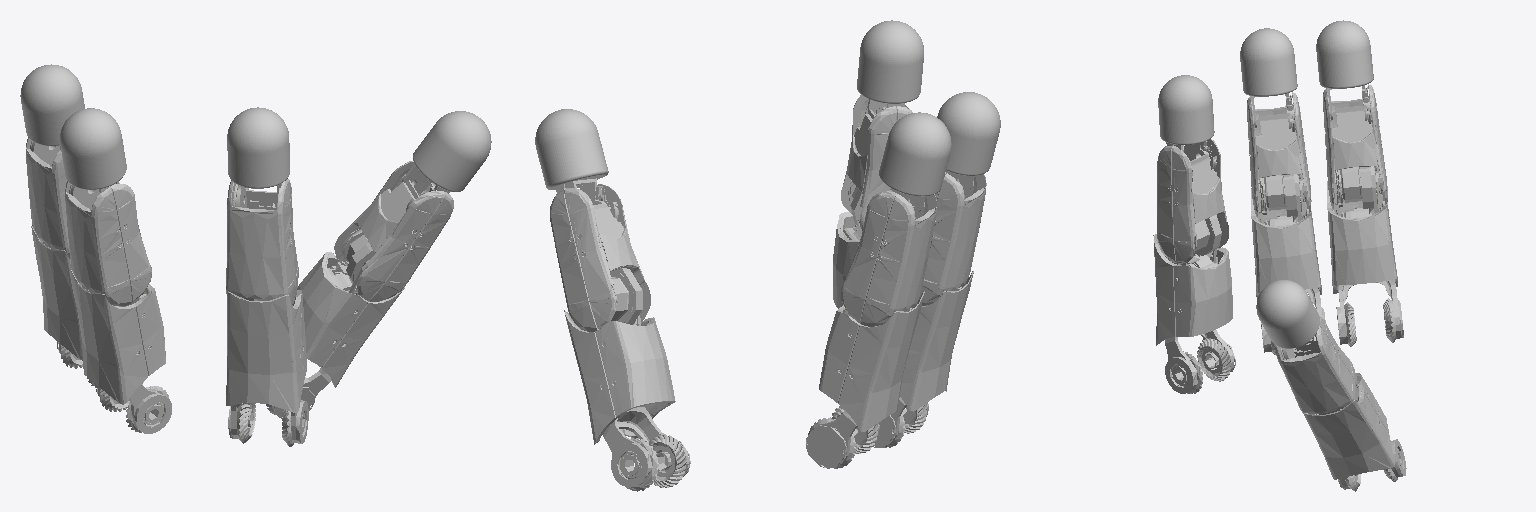
URDF robot description (hand):
<?xml version='1.0' encoding='UTF-8'?>
<robot name="hand">
  <link name="hand_base">
    <inertial>
      <origin xyz="0.0 0.0 0.0" rpy="0.0 -0.0 0.0"/>
      <mass value="1.0"/>
      <inertia ixx="0.0" ixy="0.0" ixz="0.0" iyy="0.0" iyz="0.0" izz="0.0"/>
    </inertial>
  </link>
  <link name="f1_base_link">
    <inertial>
      <origin xyz="0.0 0.0 0.0" rpy="0.0 -0.0 0.0"/>
      <mass value="0.1"/>
      <inertia ixx="0.0" ixy="0.0" ixz="0.0" iyy="0.0" iyz="0.0" izz="0.0"/>
    </inertial>
  </link>
  <link name="f1_proximal_link">
    <inertial>
      <origin xyz="0.0 0.0 0.0" rpy="0.0 -0.0 0.0"/>
      <mass value="0.0"/>
      <inertia ixx="0.0" ixy="0.0" ixz="0.0" iyy="0.0" iyz="0.0" izz="0.0"/>
    </inertial>
  </link>
  <link name="f1_knuckle_link">
    <inertial>
      <origin xyz="0.0 0.0 0.0" rpy="0.0 -0.0 0.0"/>
      <mass value="0.1"/>
      <inertia ixx="0.0" ixy="0.0" ixz="0.0" iyy="0.0" iyz="0.0" izz="0.0"/>
    </inertial>
    <visual>
      <geometry>
        <mesh filename="hand_model/object_files/finger_prox.obj"/>
      </geometry>
      <material name="hand_grey"/>
      <origin xyz="0.0 0.0 0.0" rpy="-1.5707963267948966 0.0 0.0"/>
    </visual>
    <collision>
      <geometry>
        <mesh filename="hand_model/object_files/finger_prox.obj"/>
      </geometry>
      <origin xyz="0.0 0.0 0.0" rpy="-1.5707963267948966 0.0 0.0"/>
    </collision>
  </link>
  <link name="f1_middle_link">
    <inertial>
      <origin xyz="0.0 0.0 0.0" rpy="0.0 -0.0 0.0"/>
      <mass value="0.075"/>
      <inertia ixx="0.0" ixy="0.0" ixz="0.0" iyy="0.0" iyz="0.0" izz="0.0"/>
    </inertial>
    <visual>
      <geometry>
        <mesh filename="hand_model/object_files/finger_med.obj"/>
      </geometry>
      <material name="hand_grey"/>
      <origin xyz="0.0 0.0 0.0" rpy="-1.5707963267948966 0.0 0.0"/>
    </visual>
    <collision>
      <geometry>
        <mesh filename="hand_model/object_files/finger_med.obj"/>
      </geometry>
      <origin xyz="0.0 0.0 0.0" rpy="-1.5707963267948966 0.0 0.0"/>
    </collision>
  </link>
  <link name="f1_distal_link">
    <inertial>
      <origin xyz="0.0 0.0 0.0" rpy="0.0 -0.0 0.0"/>
      <mass value="0.025"/>
      <inertia ixx="0.0" ixy="0.0" ixz="0.0" iyy="0.0" iyz="0.0" izz="0.0"/>
    </inertial>
    <visual>
      <geometry>
        <mesh filename="hand_model/object_files/finger_dist_pill.obj" scale="0.001 0.001 0.001"/>
      </geometry>
      <material name="hand_grey"/>
      <origin xyz="0.0 0.0 0.0" rpy="-1.5707963267948966 0.0 0.0"/>
    </visual>
    <collision>
       <geometry>
        <mesh filename="tips/tips_simple_subd2_cy.obj" scale="0.001 0.001 0.001"/>
      </geometry>
       <origin xyz="0.0 0.0 0.0" rpy="-1.5707963267948966 0.0 0.0"/>
    </collision>
    <collision>
       <geometry>
        <mesh filename="tips/tips_simple_subd2_sp.obj" scale="0.001 0.001 0.001"/>
      </geometry>
       <origin xyz="0.0 0.0 0.0" rpy="-1.5707963267948966 0.0 0.0"/>
    </collision>
  </link>
  <link name="f2_base_link">
    <inertial>
      <origin xyz="0.0 0.0 0.0" rpy="0.0 -0.0 0.0"/>
      <mass value="0.1"/>
      <inertia ixx="0.0" ixy="0.0" ixz="0.0" iyy="0.0" iyz="0.0" izz="0.0"/>
    </inertial>
  </link>
  <link name="f2_proximal_link">
    <inertial>
      <origin xyz="0.0 0.0 0.0" rpy="0.0 -0.0 0.0"/>
      <mass value="0.0"/>
      <inertia ixx="0.0" ixy="0.0" ixz="0.0" iyy="0.0" iyz="0.0" izz="0.0"/>
    </inertial>
  </link>
  <link name="f2_knuckle_link">
    <inertial>
      <origin xyz="0.0 0.0 0.0" rpy="0.0 -0.0 0.0"/>
      <mass value="0.1"/>
      <inertia ixx="0.0" ixy="0.0" ixz="0.0" iyy="0.0" iyz="0.0" izz="0.0"/>
    </inertial>
    <visual>
      <geometry>
        <mesh filename="hand_model/object_files/finger_prox.obj"/>
      </geometry>
      <material name="hand_grey"/>
      <origin xyz="0.0 0.0 0.0" rpy="-1.5707963267948966 0.0 0.0"/>
    </visual>
    <collision>
      <geometry>
        <mesh filename="hand_model/object_files/finger_prox.obj"/>
      </geometry>
      <origin xyz="0.0 0.0 0.0" rpy="-1.5707963267948966 0.0 0.0"/>
    </collision>
  </link>
  <link name="f2_middle_link">
    <inertial>
      <origin xyz="0.0 0.0 0.0" rpy="0.0 -0.0 0.0"/>
      <mass value="0.075"/>
      <inertia ixx="0.0" ixy="0.0" ixz="0.0" iyy="0.0" iyz="0.0" izz="0.0"/>
    </inertial>
    <visual>
      <geometry>
        <mesh filename="hand_model/object_files/finger_med.obj"/>
      </geometry>
      <material name="hand_grey"/>
      <origin xyz="0.0 0.0 0.0" rpy="-1.5707963267948966 0.0 0.0"/>
    </visual>
    <collision>
      <geometry>
        <mesh filename="hand_model/object_files/finger_med.obj"/>
      </geometry>
      <origin xyz="0.0 0.0 0.0" rpy="-1.5707963267948966 0.0 0.0"/>
    </collision>
  </link>
  <link name="f2_distal_link">
    <inertial>
      <origin xyz="0.0 0.0 0.0" rpy="0.0 -0.0 0.0"/>
      <mass value="0.025"/>
      <inertia ixx="0.0" ixy="0.0" ixz="0.0" iyy="0.0" iyz="0.0" izz="0.0"/>
    </inertial>
    <visual>
      <geometry>
        <mesh filename="hand_model/object_files/finger_dist_pill.obj" scale="0.001 0.001 0.001"/>
      </geometry>
      <material name="hand_grey"/>
      <origin xyz="0.0 0.0 0.0" rpy="-1.5707963267948966 0.0 0.0"/>
    </visual>
    <collision>
       <geometry>
        <mesh filename="tips/tips_simple_subd2_cy.obj" scale="0.001 0.001 0.001"/>
      </geometry>
       <origin xyz="0.0 0.0 0.0" rpy="-1.5707963267948966 0.0 0.0"/>
    </collision>
    <collision>
       <geometry>
        <mesh filename="tips/tips_simple_subd2_sp.obj" scale="0.001 0.001 0.001"/>
      </geometry>
       <origin xyz="0.0 0.0 0.0" rpy="-1.5707963267948966 0.0 0.0"/>
    </collision>
  </link>
  <link name="f3_base_link">
    <inertial>
      <origin xyz="0.0 0.0 0.0" rpy="0.0 -0.0 0.0"/>
      <mass value="0.1"/>
      <inertia ixx="0.0" ixy="0.0" ixz="0.0" iyy="0.0" iyz="0.0" izz="0.0"/>
    </inertial>
  </link>
  <link name="f3_proximal_link">
    <inertial>
      <origin xyz="0.0 0.0 0.0" rpy="0.0 -0.0 0.0"/>
      <mass value="0.0"/>
      <inertia ixx="0.0" ixy="0.0" ixz="0.0" iyy="0.0" iyz="0.0" izz="0.0"/>
    </inertial>
  </link>
  <link name="f3_knuckle_link">
    <inertial>
      <origin xyz="0.0 0.0 0.0" rpy="0.0 -0.0 0.0"/>
      <mass value="0.1"/>
      <inertia ixx="0.0" ixy="0.0" ixz="0.0" iyy="0.0" iyz="0.0" izz="0.0"/>
    </inertial>
    <visual>
      <geometry>
        <mesh filename="hand_model/object_files/finger_prox.obj"/>
      </geometry>
      <material name="hand_grey"/>
      <origin xyz="0.0 0.0 0.0" rpy="-1.5707963267948966 0.0 0.0"/>
    </visual>
    <collision>
      <geometry>
        <mesh filename="hand_model/object_files/finger_prox.obj"/>
      </geometry>
      <origin xyz="0.0 0.0 0.0" rpy="-1.5707963267948966 0.0 0.0"/>
    </collision>
  </link>
  <link name="f3_middle_link">
    <inertial>
      <origin xyz="0.0 0.0 0.0" rpy="0.0 -0.0 0.0"/>
      <mass value="0.075"/>
      <inertia ixx="0.0" ixy="0.0" ixz="0.0" iyy="0.0" iyz="0.0" izz="0.0"/>
    </inertial>
    <visual>
      <geometry>
        <mesh filename="hand_model/object_files/finger_med.obj"/>
      </geometry>
      <material name="hand_grey"/>
      <origin xyz="0.0 0.0 0.0" rpy="-1.5707963267948966 0.0 0.0"/>
    </visual>
    <collision>
      <geometry>
        <mesh filename="hand_model/object_files/finger_med.obj"/>
      </geometry>
      <origin xyz="0.0 0.0 0.0" rpy="-1.5707963267948966 0.0 0.0"/>
    </collision>
  </link>
  <link name="f3_distal_link">
    <inertial>
      <origin xyz="0.0 0.0 0.0" rpy="0.0 -0.0 0.0"/>
      <mass value="0.025"/>
      <inertia ixx="0.0" ixy="0.0" ixz="0.0" iyy="0.0" iyz="0.0" izz="0.0"/>
    </inertial>
    <visual>
      <geometry>
        <mesh filename="hand_model/object_files/finger_dist_pill.obj" scale="0.001 0.001 0.001"/>
      </geometry>
      <material name="hand_grey"/>
      <origin xyz="0.0 0.0 0.0" rpy="-1.5707963267948966 0.0 0.0"/>
    </visual>
    <collision>
       <geometry>
        <mesh filename="tips/tips_simple_subd2_cy.obj" scale="0.001 0.001 0.001"/>
      </geometry>
       <origin xyz="0.0 0.0 0.0" rpy="-1.5707963267948966 0.0 0.0"/>
    </collision>
    <collision>
       <geometry>
        <mesh filename="tips/tips_simple_subd2_sp.obj" scale="0.001 0.001 0.001"/>
      </geometry>
       <origin xyz="0.0 0.0 0.0" rpy="-1.5707963267948966 0.0 0.0"/>
    </collision>
  </link>
  <link name="f4_base_link">
    <inertial>
      <origin xyz="0.0 0.0 0.0" rpy="0.0 -0.0 0.0"/>
      <mass value="0.1"/>
      <inertia ixx="0.0" ixy="0.0" ixz="0.0" iyy="0.0" iyz="0.0" izz="0.0"/>
    </inertial>
  </link>
  <link name="f4_proximal_link">
    <inertial>
      <origin xyz="0.0 0.0 0.0" rpy="0.0 -0.0 0.0"/>
      <mass value="0.0"/>
      <inertia ixx="0.0" ixy="0.0" ixz="0.0" iyy="0.0" iyz="0.0" izz="0.0"/>
    </inertial>
  </link>
  <link name="f4_knuckle_link">
    <inertial>
      <origin xyz="0.0 0.0 0.0" rpy="0.0 -0.0 0.0"/>
      <mass value="0.1"/>
      <inertia ixx="0.0" ixy="0.0" ixz="0.0" iyy="0.0" iyz="0.0" izz="0.0"/>
    </inertial>
    <visual>
      <geometry>
        <mesh filename="hand_model/object_files/finger_prox.obj"/>
      </geometry>
      <material name="hand_grey"/>
      <origin xyz="0.0 0.0 0.0" rpy="-1.5707963267948966 0.0 0.0"/>
    </visual>
    <collision>
      <geometry>
        <mesh filename="hand_model/object_files/finger_prox.obj"/>
      </geometry>
      <origin xyz="0.0 0.0 0.0" rpy="-1.5707963267948966 0.0 0.0"/>
    </collision>
  </link>
  <link name="f4_middle_link">
    <inertial>
      <origin xyz="0.0 0.0 0.0" rpy="0.0 -0.0 0.0"/>
      <mass value="0.075"/>
      <inertia ixx="0.0" ixy="0.0" ixz="0.0" iyy="0.0" iyz="0.0" izz="0.0"/>
    </inertial>
    <visual>
      <geometry>
        <mesh filename="hand_model/object_files/finger_med.obj"/>
      </geometry>
      <material name="hand_grey"/>
      <origin xyz="0.0 0.0 0.0" rpy="-1.5707963267948966 0.0 0.0"/>
    </visual>
    <collision>
      <geometry>
        <mesh filename="hand_model/object_files/finger_med.obj"/>
      </geometry>
      <origin xyz="0.0 0.0 0.0" rpy="-1.5707963267948966 0.0 0.0"/>
    </collision>
  </link>
  <link name="f4_distal_link">
    <inertial>
      <origin xyz="0.0 0.0 0.0" rpy="0.0 -0.0 0.0"/>
      <mass value="0.025"/>
      <inertia ixx="0.0" ixy="0.0" ixz="0.0" iyy="0.0" iyz="0.0" izz="0.0"/>
    </inertial>
    <visual>
      <geometry>
        <mesh filename="hand_model/object_files/finger_dist_pill.obj" scale="0.001 0.001 0.001"/>
      </geometry>
      <material name="hand_grey"/>
      <origin xyz="0.0 0.0 0.0" rpy="-1.5707963267948966 0.0 0.0"/>
    </visual>
    <collision>
       <geometry>
        <mesh filename="tips/tips_simple_subd2_cy.obj" scale="0.001 0.001 0.001"/>
      </geometry>
       <origin xyz="0.0 0.0 0.0" rpy="-1.5707963267948966 0.0 0.0"/>
    </collision>
    <collision>
       <geometry>
        <mesh filename="tips/tips_simple_subd2_sp.obj" scale="0.001 0.001 0.001"/>
      </geometry>
       <origin xyz="0.0 0.0 0.0" rpy="-1.5707963267948966 0.0 0.0"/>
    </collision>
  </link>
  <joint name="f1_base_transformation_fixed" type="fixed">
    <parent link="hand_base"/>
    <child link="f1_base_link"/>
    <axis xyz="1. 0. 0."/>
    <origin xyz="-0.005785206 -0.061149354 0.132621405" rpy="0.14464487481415556 -1.485459239924849 -2.446541906979036"/>
  </joint>
  <joint name="f1_proximal_joint" type="revolute">
    <limit effort="1000.0" velocity="1000.0" lower="-0.5" upper="0.5"/>
    <parent link="f1_base_link"/>
    <child link="f1_proximal_link"/>
    <axis xyz="0. 0. 1."/>
    <origin xyz="0.0 -0.0 0.0" rpy="0.0 -0.0 0.0"/>
  </joint>
  <joint name="f1_knuckle_joint" type="revolute">
    <limit effort="1000.0" velocity="1000.0" lower="-0.34" upper="1.5"/>
    <parent link="f1_proximal_link"/>
    <child link="f1_knuckle_link"/>
    <axis xyz="0. 0. 1."/>
    <origin xyz="0.0 -0.0 0.0" rpy="1.5707963267948966 -0.0 0.0"/>
  </joint>
  <joint name="f1_middle_joint" type="revolute">
    <limit effort="1000.0" velocity="1000.0" lower="-0.13" upper="1.7"/>
    <parent link="f1_knuckle_link"/>
    <child link="f1_middle_link"/>
    <axis xyz="0. 0. 1."/>
    <origin xyz="0.075 -0.0 0.0" rpy="0.0 -0.0 0.0"/>
  </joint>
  <joint name="f1_distal_joint_passive" type="revolute">
    <limit effort="1000.0" velocity="1000.0" lower="-0.13" upper="1.7"/>
    <parent link="f1_middle_link"/>
    <child link="f1_distal_link"/>
    <axis xyz="0. 0. 1."/>
    <origin xyz="0.04 -0.0 0.0" rpy="0.0 0.0 -1.5707963267948966"/>
  </joint>
  <joint name="f2_base_transformation_fixed" type="fixed">
    <parent link="hand_base"/>
    <child link="f2_base_link"/>
    <axis xyz="1. 0. 0."/>
    <origin xyz="-0.048151365 -0.012101809 0.133300263" rpy="-0.38464095936834725 -1.337289794013638 -2.708519622653562"/>
  </joint>
  <joint name="f2_proximal_joint" type="revolute">
    <limit effort="1000.0" velocity="1000.0" lower="-0.5" upper="0.5"/>
    <parent link="f2_base_link"/>
    <child link="f2_proximal_link"/>
    <axis xyz="0. 0. 1."/>
    <origin xyz="0.0 -0.0 0.0" rpy="0.0 -0.0 0.0"/>
  </joint>
  <joint name="f2_knuckle_joint" type="revolute">
    <limit effort="1000.0" velocity="1000.0" lower="-0.34" upper="1.5"/>
    <parent link="f2_proximal_link"/>
    <child link="f2_knuckle_link"/>
    <axis xyz="0. 0. 1."/>
    <origin xyz="0.0 -0.0 0.0" rpy="1.5707963267948966 -0.0 0.0"/>
  </joint>
  <joint name="f2_middle_joint" type="revolute">
    <limit effort="1000.0" velocity="1000.0" lower="-0.13" upper="1.7"/>
    <parent link="f2_knuckle_link"/>
    <child link="f2_middle_link"/>
    <axis xyz="0. 0. 1."/>
    <origin xyz="0.075 -0.0 0.0" rpy="0.0 -0.0 0.0"/>
  </joint>
  <joint name="f2_distal_joint_passive" type="revolute">
    <limit effort="1000.0" velocity="1000.0" lower="-0.13" upper="1.7"/>
    <parent link="f2_middle_link"/>
    <child link="f2_distal_link"/>
    <axis xyz="0. 0. 1."/>
    <origin xyz="0.04 -0.0 0.0" rpy="0.0 0.0 -1.5707963267948966"/>
  </joint>
  <joint name="f3_base_transformation_fixed" type="fixed">
    <parent link="hand_base"/>
    <child link="f3_base_link"/>
    <axis xyz="1. 0. 0."/>
    <origin xyz="-0.045982316 0.027691585 0.138843566" rpy="-0.38464095936834725 -1.337289794013638 -2.708519622653562"/>
  </joint>
  <joint name="f3_proximal_joint" type="revolute">
    <limit effort="1000.0" velocity="1000.0" lower="-0.5" upper="0.5"/>
    <parent link="f3_base_link"/>
    <child link="f3_proximal_link"/>
    <axis xyz="0. 0. 1."/>
    <origin xyz="0.0 -0.0 0.0" rpy="0.0 -0.0 0.0"/>
  </joint>
  <joint name="f3_knuckle_joint" type="revolute">
    <limit effort="1000.0" velocity="1000.0" lower="-0.34" upper="1.5"/>
    <parent link="f3_proximal_link"/>
    <child link="f3_knuckle_link"/>
    <axis xyz="0. 0. 1."/>
    <origin xyz="0.0 -0.0 0.0" rpy="1.5707963267948966 -0.0 0.0"/>
  </joint>
  <joint name="f3_middle_joint" type="revolute">
    <limit effort="1000.0" velocity="1000.0" lower="-0.13" upper="1.7"/>
    <parent link="f3_knuckle_link"/>
    <child link="f3_middle_link"/>
    <axis xyz="0. 0. 1."/>
    <origin xyz="0.075 -0.0 0.0" rpy="0.0 -0.0 0.0"/>
  </joint>
  <joint name="f3_distal_joint_passive" type="revolute">
    <limit effort="1000.0" velocity="1000.0" lower="-0.13" upper="1.7"/>
    <parent link="f3_middle_link"/>
    <child link="f3_distal_link"/>
    <axis xyz="0. 0. 1."/>
    <origin xyz="0.04 -0.0 0.0" rpy="0.0 0.0 -1.5707963267948966"/>
  </joint>
  <joint name="f4_base_transformation_fixed" type="fixed">
    <parent link="hand_base"/>
    <child link="f4_base_link"/>
    <axis xyz="1. 0. 0."/>
    <origin xyz="0.052264236 0.026986124 0.102620128" rpy="0.547040025261126 -0.9823732784666147 -0.578402029433078"/>
  </joint>
  <joint name="f4_proximal_joint" type="revolute">
    <limit effort="1000.0" velocity="1000.0" lower="-0.5" upper="0.5"/>
    <parent link="f4_base_link"/>
    <child link="f4_proximal_link"/>
    <axis xyz="0. 0. 1."/>
    <origin xyz="0.0 -0.0 0.0" rpy="0.0 -0.0 0.0"/>
  </joint>
  <joint name="f4_knuckle_joint" type="revolute">
    <limit effort="1000.0" velocity="1000.0" lower="-0.34" upper="1.5"/>
    <parent link="f4_proximal_link"/>
    <child link="f4_knuckle_link"/>
    <axis xyz="0. 0. 1."/>
    <origin xyz="0.0 -0.0 0.0" rpy="1.5707963267948966 -0.0 0.0"/>
  </joint>
  <joint name="f4_middle_joint" type="revolute">
    <limit effort="1000.0" velocity="1000.0" lower="-0.13" upper="1.7"/>
    <parent link="f4_knuckle_link"/>
    <child link="f4_middle_link"/>
    <axis xyz="0. 0. 1."/>
    <origin xyz="0.075 -0.0 0.0" rpy="0.0 -0.0 0.0"/>
  </joint>
  <joint name="f4_distal_joint_passive" type="revolute">
    <limit effort="1000.0" velocity="1000.0" lower="-0.13" upper="1.7"/>
    <parent link="f4_middle_link"/>
    <child link="f4_distal_link"/>
    <axis xyz="0. 0. 1."/>
    <origin xyz="0.04 -0.0 0.0" rpy="0.0 0.0 -1.5707963267948966"/>
  </joint>
  <material name="base_and_dock_material">
    <color rgba="0.  0.  0.5 1. "/>
  </material>
  <material name="hand_red">
    <color rgba="1. 0. 0. 1."/>
  </material>
  <material name="hand_blue">
    <color rgba="0. 0. 1. 1."/>
  </material>
  <material name="hand_green">
    <color rgba="0. 1. 0. 1."/>
  </material>
  <material name="hand_yellow">
    <color rgba="1. 1. 0. 1."/>
  </material>
  <material name="hand_purple">
    <color rgba="1. 0. 1. 1."/>
  </material>
  <material name="hand_grey">
    <color rgba="0.8 0.8 0.8 1. "/>
  </material>
  <material name="hand_turquoise">
    <color rgba="0. 1. 1. 1."/>
  </material>
</robot>

--- Facts derived from the render (not from the file) ---
3 views of the same robot in one strip: view 1: azimuth 30°, elevation 25°; view 2: azimuth 150°, elevation 25°; view 3: azimuth 270°, elevation 25° (orthographic).
Model hand with 21 links and 20 joints (16 revolute, 4 fixed), rooted at hand_base, posed every joint at zero.
Links seen in each view (by area): view 1: f1_knuckle_link, f2_knuckle_link, f4_middle_link, f4_knuckle_link, f2_middle_link, f1_middle_link, f2_distal_link, f4_distal_link, f1_distal_link, f3_distal_link, f3_knuckle_link, f3_middle_link; view 2: f4_knuckle_link, f3_knuckle_link, f4_middle_link, f3_middle_link, f2_knuckle_link, f2_middle_link, f4_distal_link, f3_distal_link, f1_distal_link, f2_distal_link, f1_middle_link, f1_knuckle_link; view 3: f1_knuckle_link, f3_knuckle_link, f1_middle_link, f2_knuckle_link, f4_knuckle_link, f3_middle_link, f2_middle_link, f4_middle_link, f1_distal_link, f2_distal_link, f3_distal_link, f4_distal_link.
Boxes of the visible links, x1=… form: f1_knuckle_link: x1=226, y1=290, x2=308, y2=446; f2_knuckle_link: x1=70, y1=270, x2=171, y2=433; f4_middle_link: x1=334, y1=161, x2=453, y2=301; f4_knuckle_link: x1=266, y1=229, x2=404, y2=418; f2_middle_link: x1=65, y1=181, x2=151, y2=305; f1_middle_link: x1=226, y1=179, x2=298, y2=304; f2_distal_link: x1=60, y1=108, x2=126, y2=209; f4_distal_link: x1=402, y1=111, x2=491, y2=210; f1_distal_link: x1=227, y1=107, x2=289, y2=207; f3_distal_link: x1=20, y1=64, x2=84, y2=165; f3_knuckle_link: x1=31, y1=226, x2=96, y2=387; f3_middle_link: x1=26, y1=137, x2=69, y2=258; f4_knuckle_link: x1=564, y1=271, x2=690, y2=491; f3_knuckle_link: x1=806, y1=291, x2=924, y2=468; f4_middle_link: x1=550, y1=184, x2=650, y2=331; f3_middle_link: x1=841, y1=188, x2=936, y2=326; f2_knuckle_link: x1=856, y1=271, x2=973, y2=447; f2_middle_link: x1=919, y1=172, x2=986, y2=305; f4_distal_link: x1=535, y1=109, x2=618, y2=219; f3_distal_link: x1=879, y1=112, x2=951, y2=218; f1_distal_link: x1=857, y1=20, x2=923, y2=114; f2_distal_link: x1=937, y1=92, x2=1000, y2=199; f1_middle_link: x1=841, y1=95, x2=912, y2=230; f1_knuckle_link: x1=833, y1=182, x2=862, y2=308; f1_knuckle_link: x1=1153, y1=219, x2=1235, y2=393; f3_knuckle_link: x1=1327, y1=166, x2=1403, y2=346; f1_middle_link: x1=1157, y1=139, x2=1228, y2=263; f2_knuckle_link: x1=1251, y1=174, x2=1325, y2=354; f4_knuckle_link: x1=1304, y1=373, x2=1406, y2=491; f3_middle_link: x1=1323, y1=84, x2=1387, y2=209; f2_middle_link: x1=1247, y1=92, x2=1311, y2=217; f4_middle_link: x1=1273, y1=316, x2=1358, y2=414; f1_distal_link: x1=1158, y1=75, x2=1216, y2=169; f2_distal_link: x1=1240, y1=28, x2=1297, y2=131; f3_distal_link: x1=1316, y1=20, x2=1373, y2=123; f4_distal_link: x1=1256, y1=280, x2=1319, y2=359.
Size in the robot's own frame: 0.2288 by 0.1322 by 0.2089 metres.
Meshes: 3 distinct files referenced, 12 mesh visuals loaded (3 OBJ).